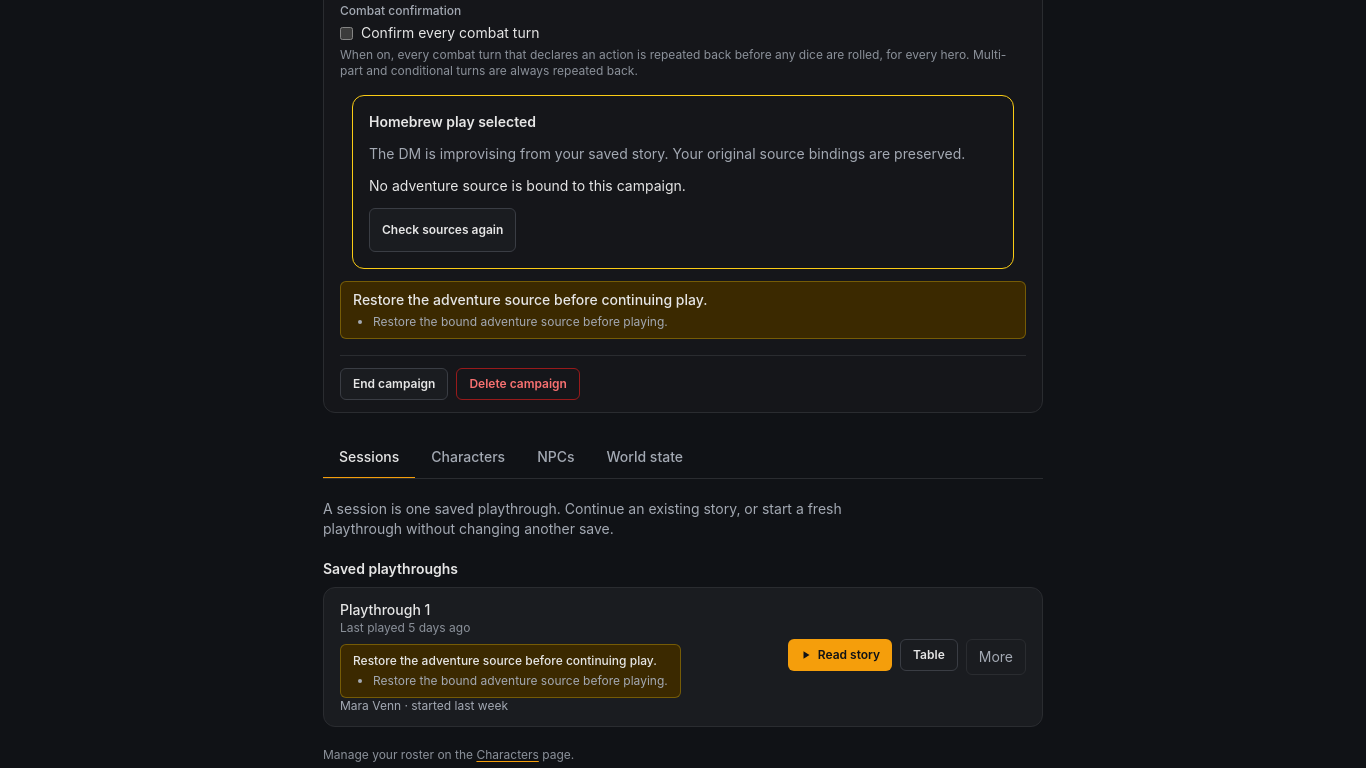
Scenario: keeps end confirmation as a deliberate secondary action in an in-app dialog
The image size is (1366, 768).
(page scrolled)
Click the button "End campaign" at (394, 384), box [340,368,448,400]
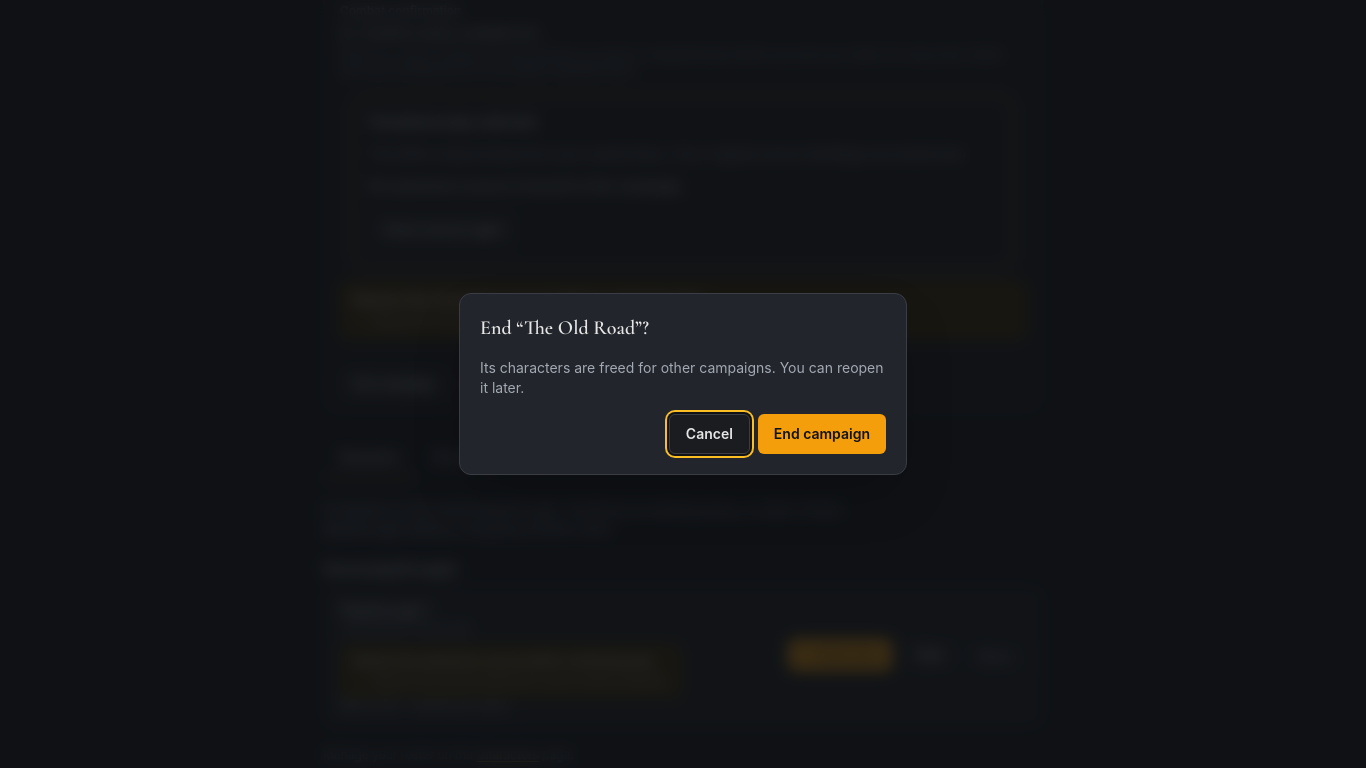
Expected: the dialog shows "Its characters are freed for other campaigns.", [480,359,884,396]
Click the button "Cancel" at (709, 434), box [669,414,750,454]
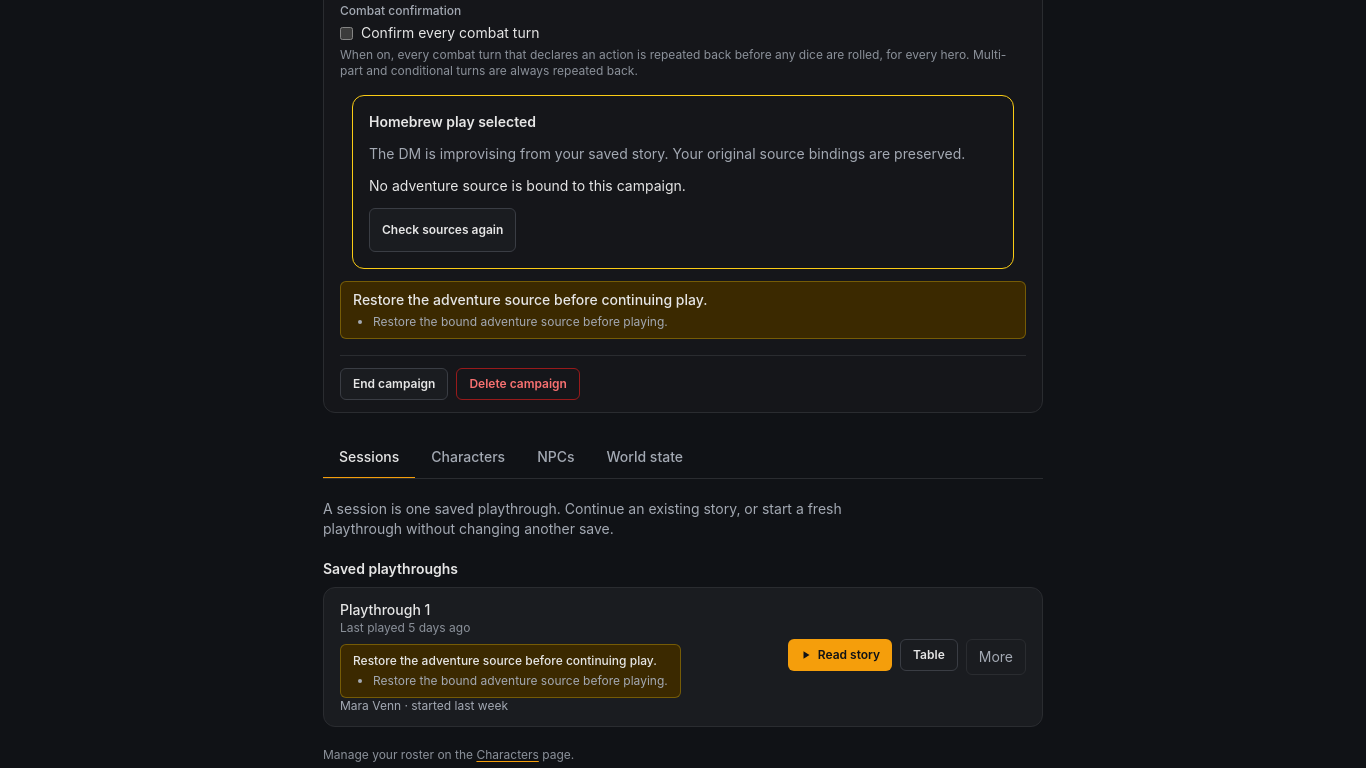
Expected: the dialog is gone
Click the button "End campaign" at (394, 384), box [340,368,448,400]
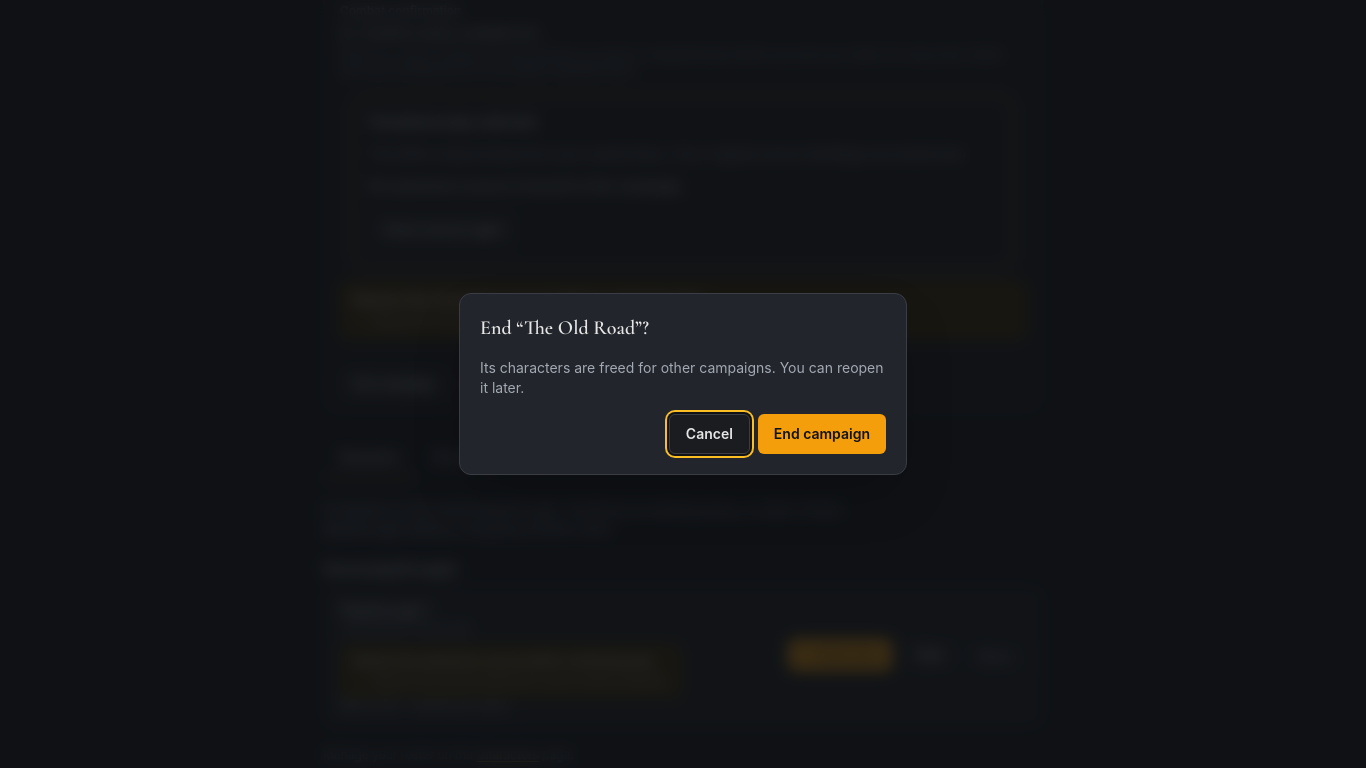
Click the button "End campaign" at (822, 434), box [758,414,886,454]
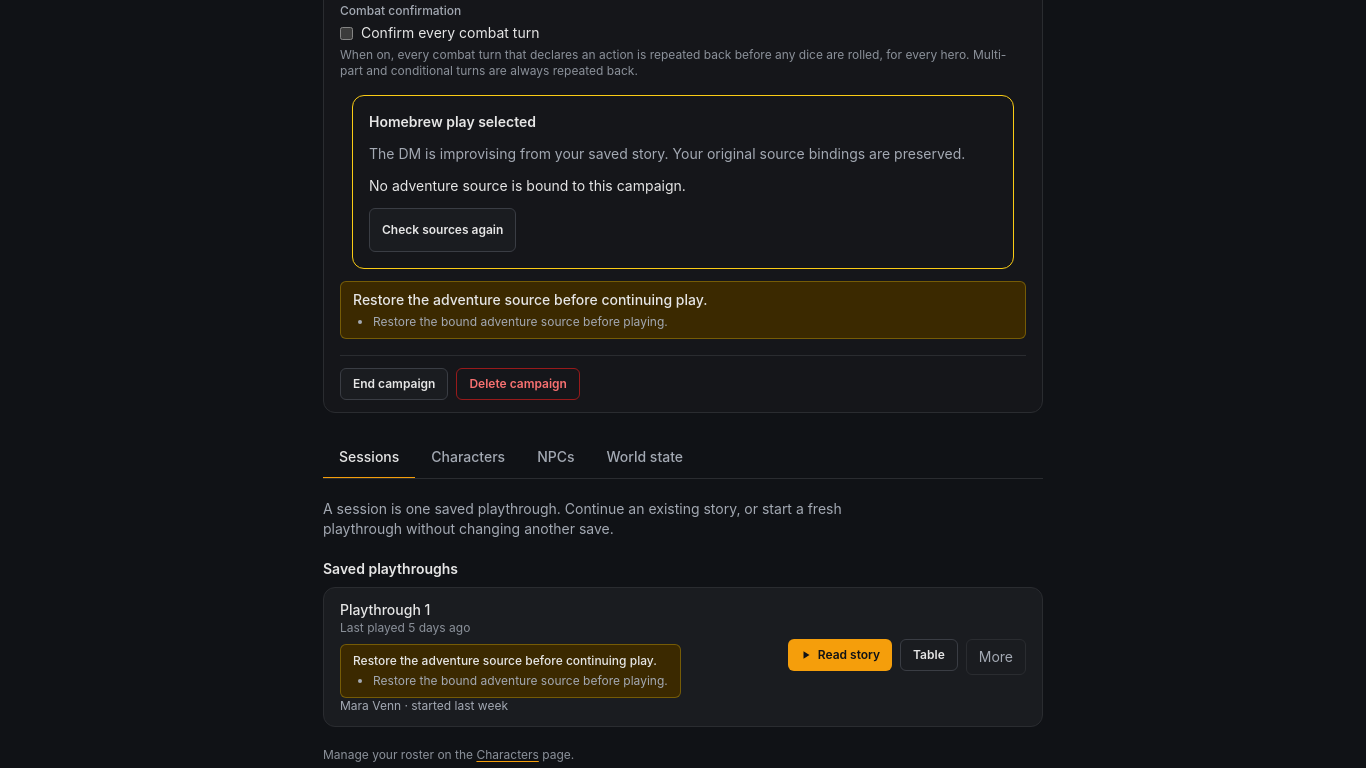
Expected: the dialog is gone
